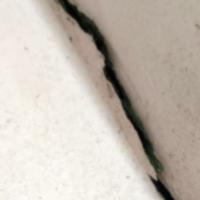crack: (60, 1, 196, 199)
